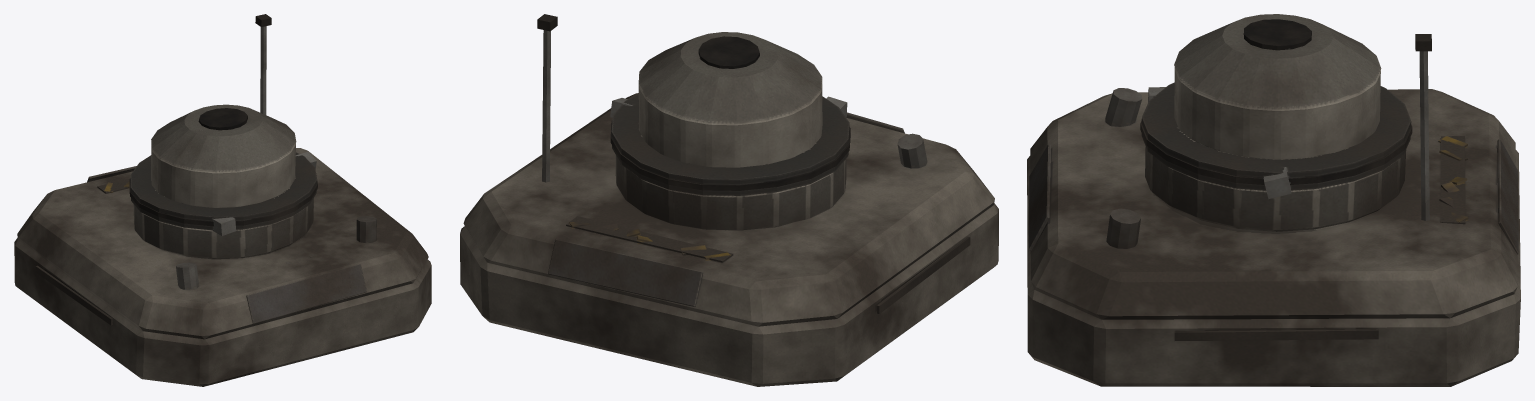
File: ord_ear_wreck.fbx
3 renders of one model, left to right at view 1: azimuth 30°, elevation 25°; view 2: azimuth 150°, elevation 25°; view 3: azimuth 270°, elevation 25°, orthographic. The views are drawn at different scales.
Visible parts, largest first — view 1: base_bar, ring_bar; view 2: base_bar, ring_bar; view 3: base_bar, ring_bar.
Part boxes in pixels (x1=…): base_bar: x1=14, y1=14, x2=431, y2=386; ring_bar: x1=129, y1=152, x2=317, y2=235; base_bar: x1=460, y1=14, x2=998, y2=386; ring_bar: x1=610, y1=94, x2=850, y2=195; base_bar: x1=1027, y1=14, x2=1520, y2=386; ring_bar: x1=1140, y1=82, x2=1412, y2=199.
Size of the model in its own units: 740 by 616 by 725.
2 materials, 2 textured.
